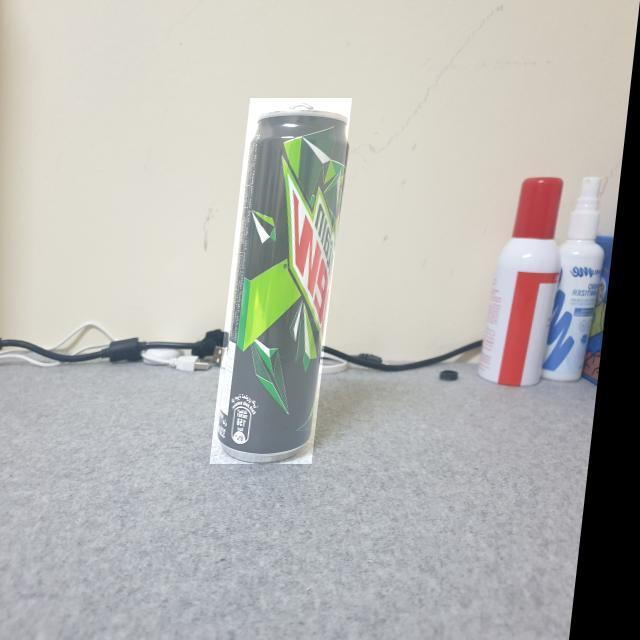trash: (206, 92, 352, 474)
